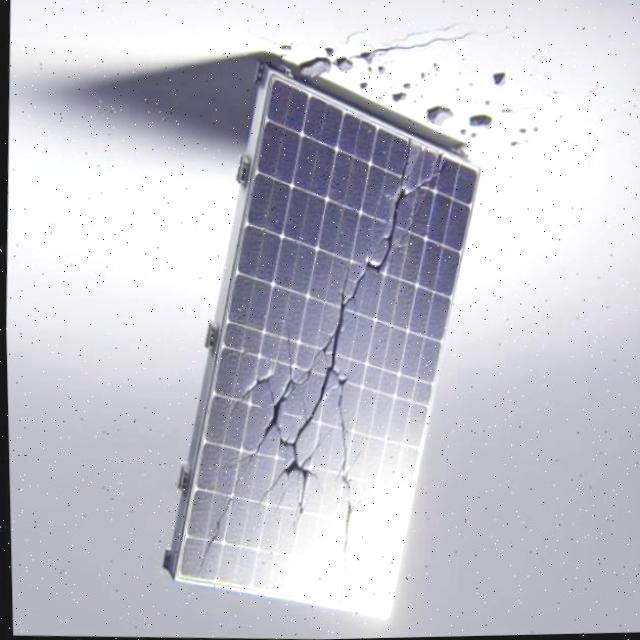Anomaly Solar Panel: (174, 79, 488, 623)
Structural Damage: (244, 129, 459, 608), (184, 321, 306, 593), (242, 410, 341, 554)
